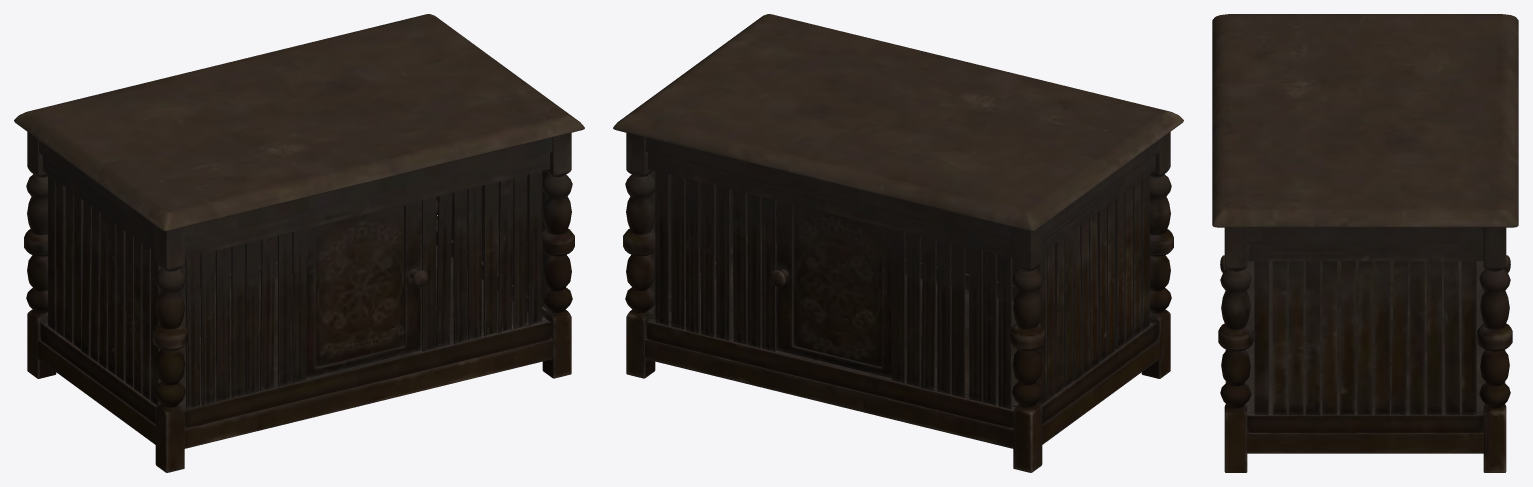
Rendered from gallinera_table.glb.
The picture shows the model from 3 angles, left to right: view 1: azimuth 30°, elevation 25°; view 2: azimuth 150°, elevation 25°; view 3: azimuth 270°, elevation 25°; orthographic projection.
Parts seen in each view (by area): view 1: gallinera_table, gallinera_table_door_a; view 2: gallinera_table, gallinera_table_door_b; view 3: gallinera_table.
Boxes of the visible parts, x1,y1,x2,y2 form: gallinera_table: [14, 14, 584, 472]; gallinera_table_door_a: [306, 200, 428, 378]; gallinera_table: [613, 14, 1183, 472]; gallinera_table_door_b: [769, 200, 891, 378]; gallinera_table: [1212, 14, 1518, 472].
Bounding box in the file's own units: 0.8301 × 0.4878 × 0.5183.
1 material, 1 textured.
